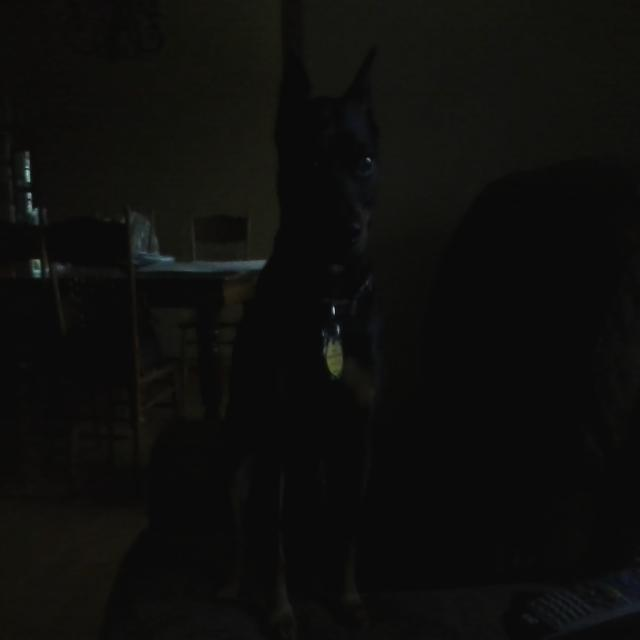Dog: (157, 65, 534, 640)
